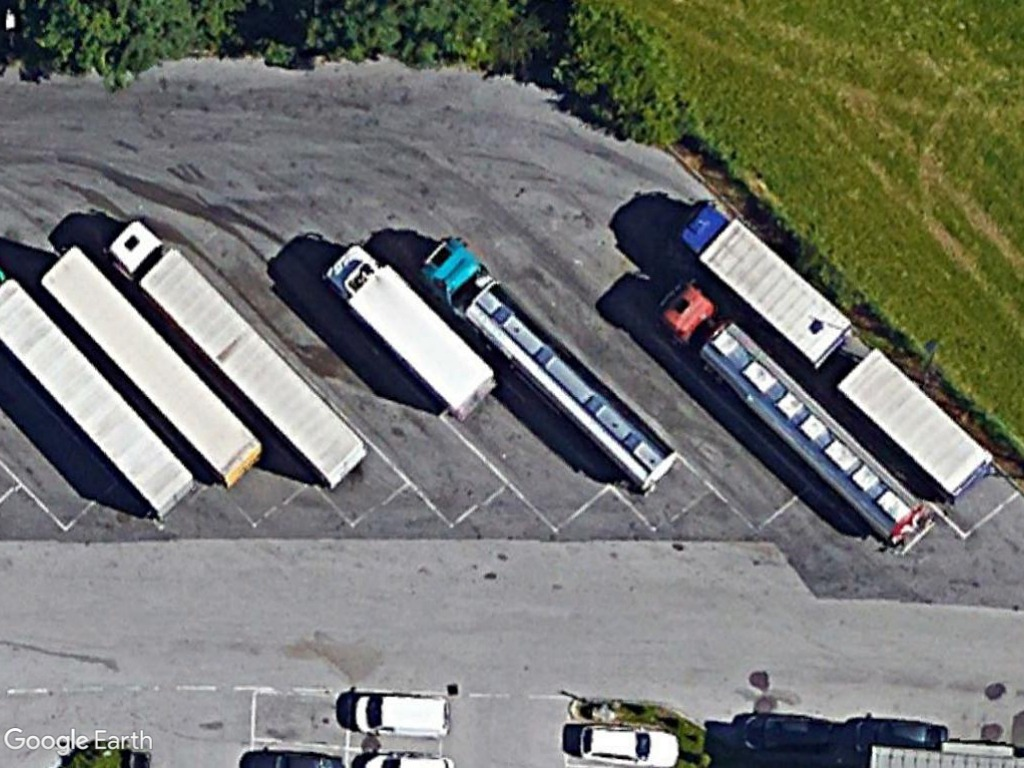car: (574, 716, 686, 768)
longvehicle: (109, 208, 375, 502)
truck: (318, 237, 503, 423), (670, 194, 858, 373)
van: (349, 686, 458, 744)
